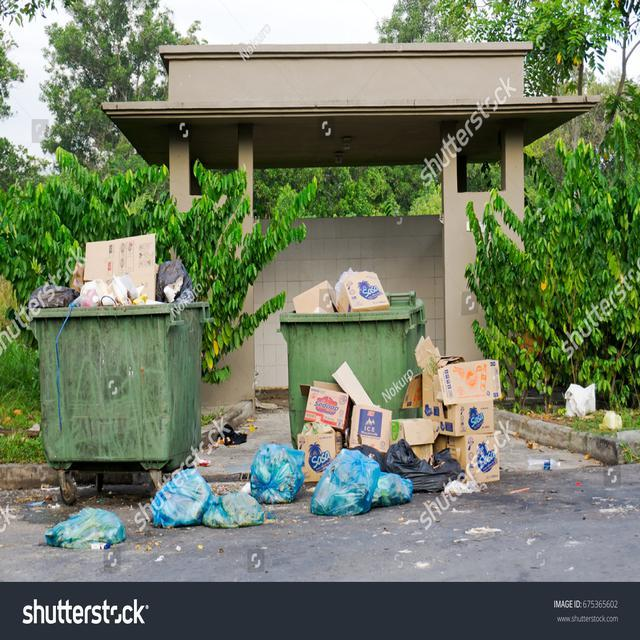garbage: (299, 356, 532, 493), (142, 439, 451, 521), (42, 225, 195, 324), (283, 259, 424, 314), (36, 498, 137, 567), (559, 376, 634, 444)
